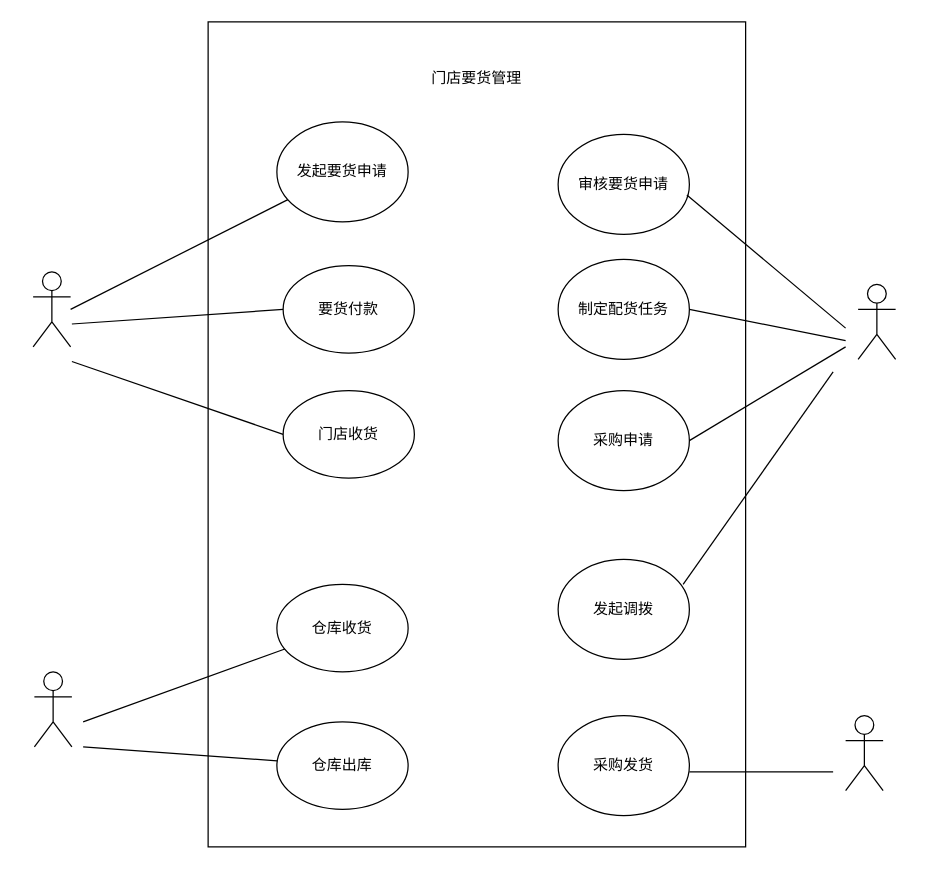
This 928x869 diagram has some shape labels left out. The shapes that lost their labels are listed below. From the top down, each one's box as (x1, y1, x2, y2) in pixels, then its label:
(32, 271, 71, 347): 门店店员
(857, 283, 896, 359): 运营人员
(33, 671, 72, 747): 仓管人员
(844, 714, 883, 791): 供应商
